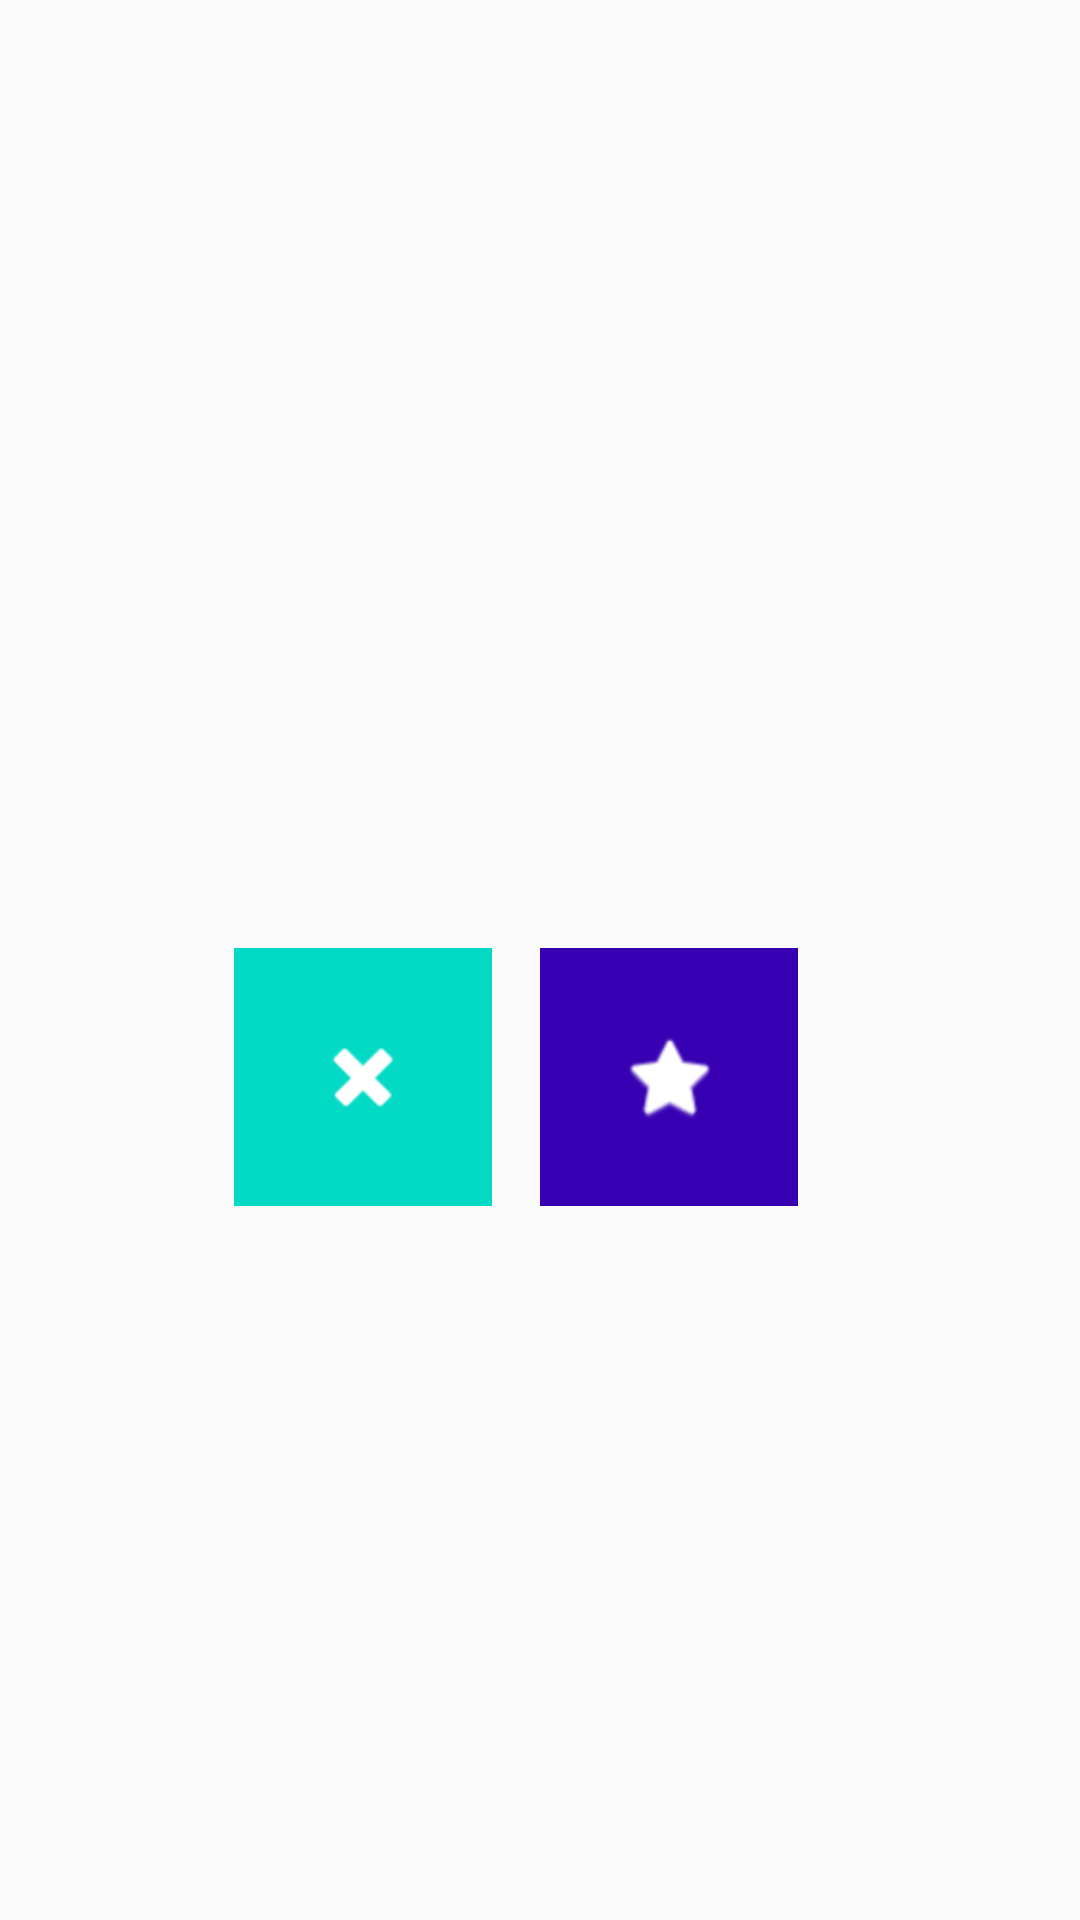

Icons on this 1080*1920 Android screen, each with its box as {"x1": x1, "y1": y1, "x2": x2, "y2": y2}:
delete: {"x1": 234, "y1": 948, "x2": 492, "y2": 1206}
star on: {"x1": 540, "y1": 948, "x2": 798, "y2": 1206}
